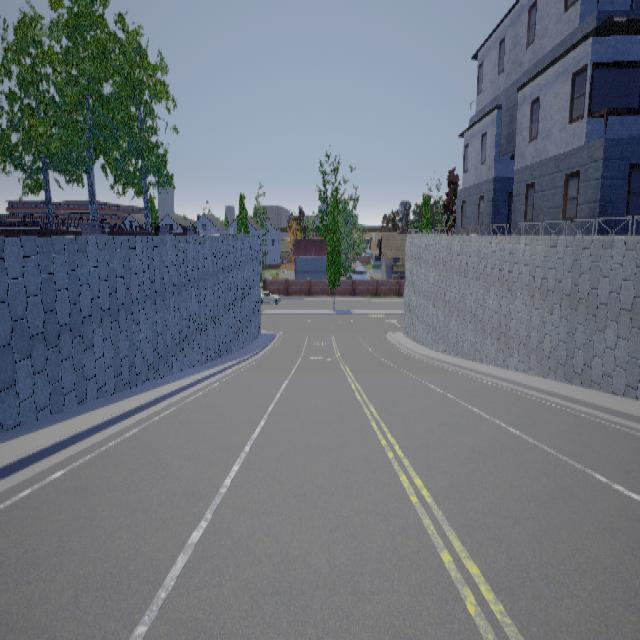vehicle: (263, 286, 282, 306)
